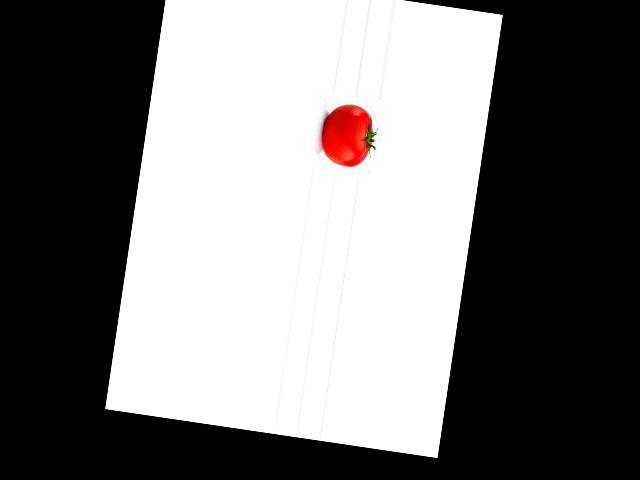tomato: (319, 101, 376, 170)
